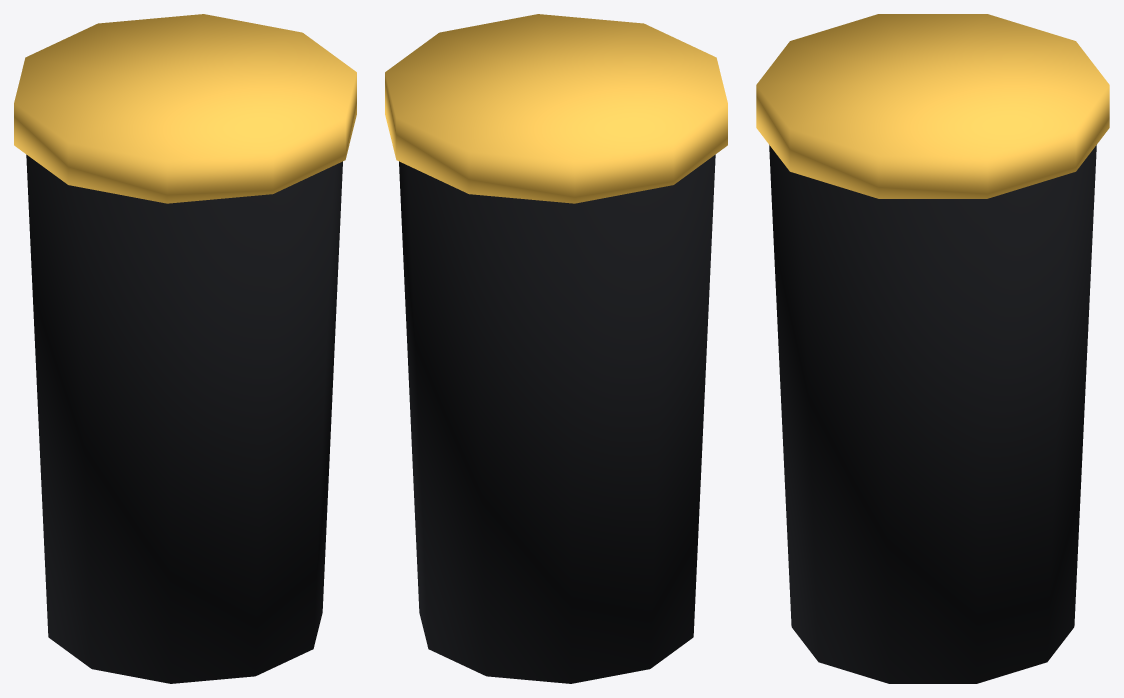
Rendered from cp_bin.glb.
3 views of the same model, side by side, from view 1: azimuth 30°, elevation 25°; view 2: azimuth 150°, elevation 25°; view 3: azimuth 270°, elevation 25° (orthographic).
Parts seen in each view (by area): view 1: city_cp_bin; view 2: city_cp_bin; view 3: city_cp_bin.
Boxes of the visible parts, x1,y1,x2,y2 form: city_cp_bin: [14, 14, 356, 683]; city_cp_bin: [385, 14, 727, 683]; city_cp_bin: [756, 14, 1109, 683].
Size of the model in its own units: 0.5706 by 1.01 by 0.6.
Materials: 1 (1 with a texture image).
